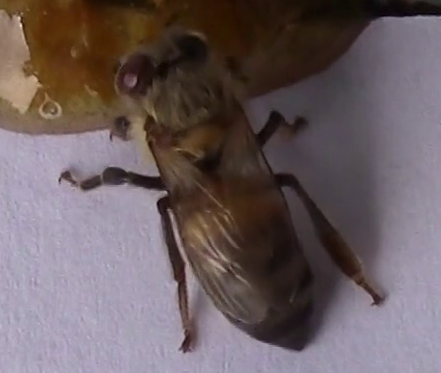Varroa destructor: (114, 54, 158, 95)
